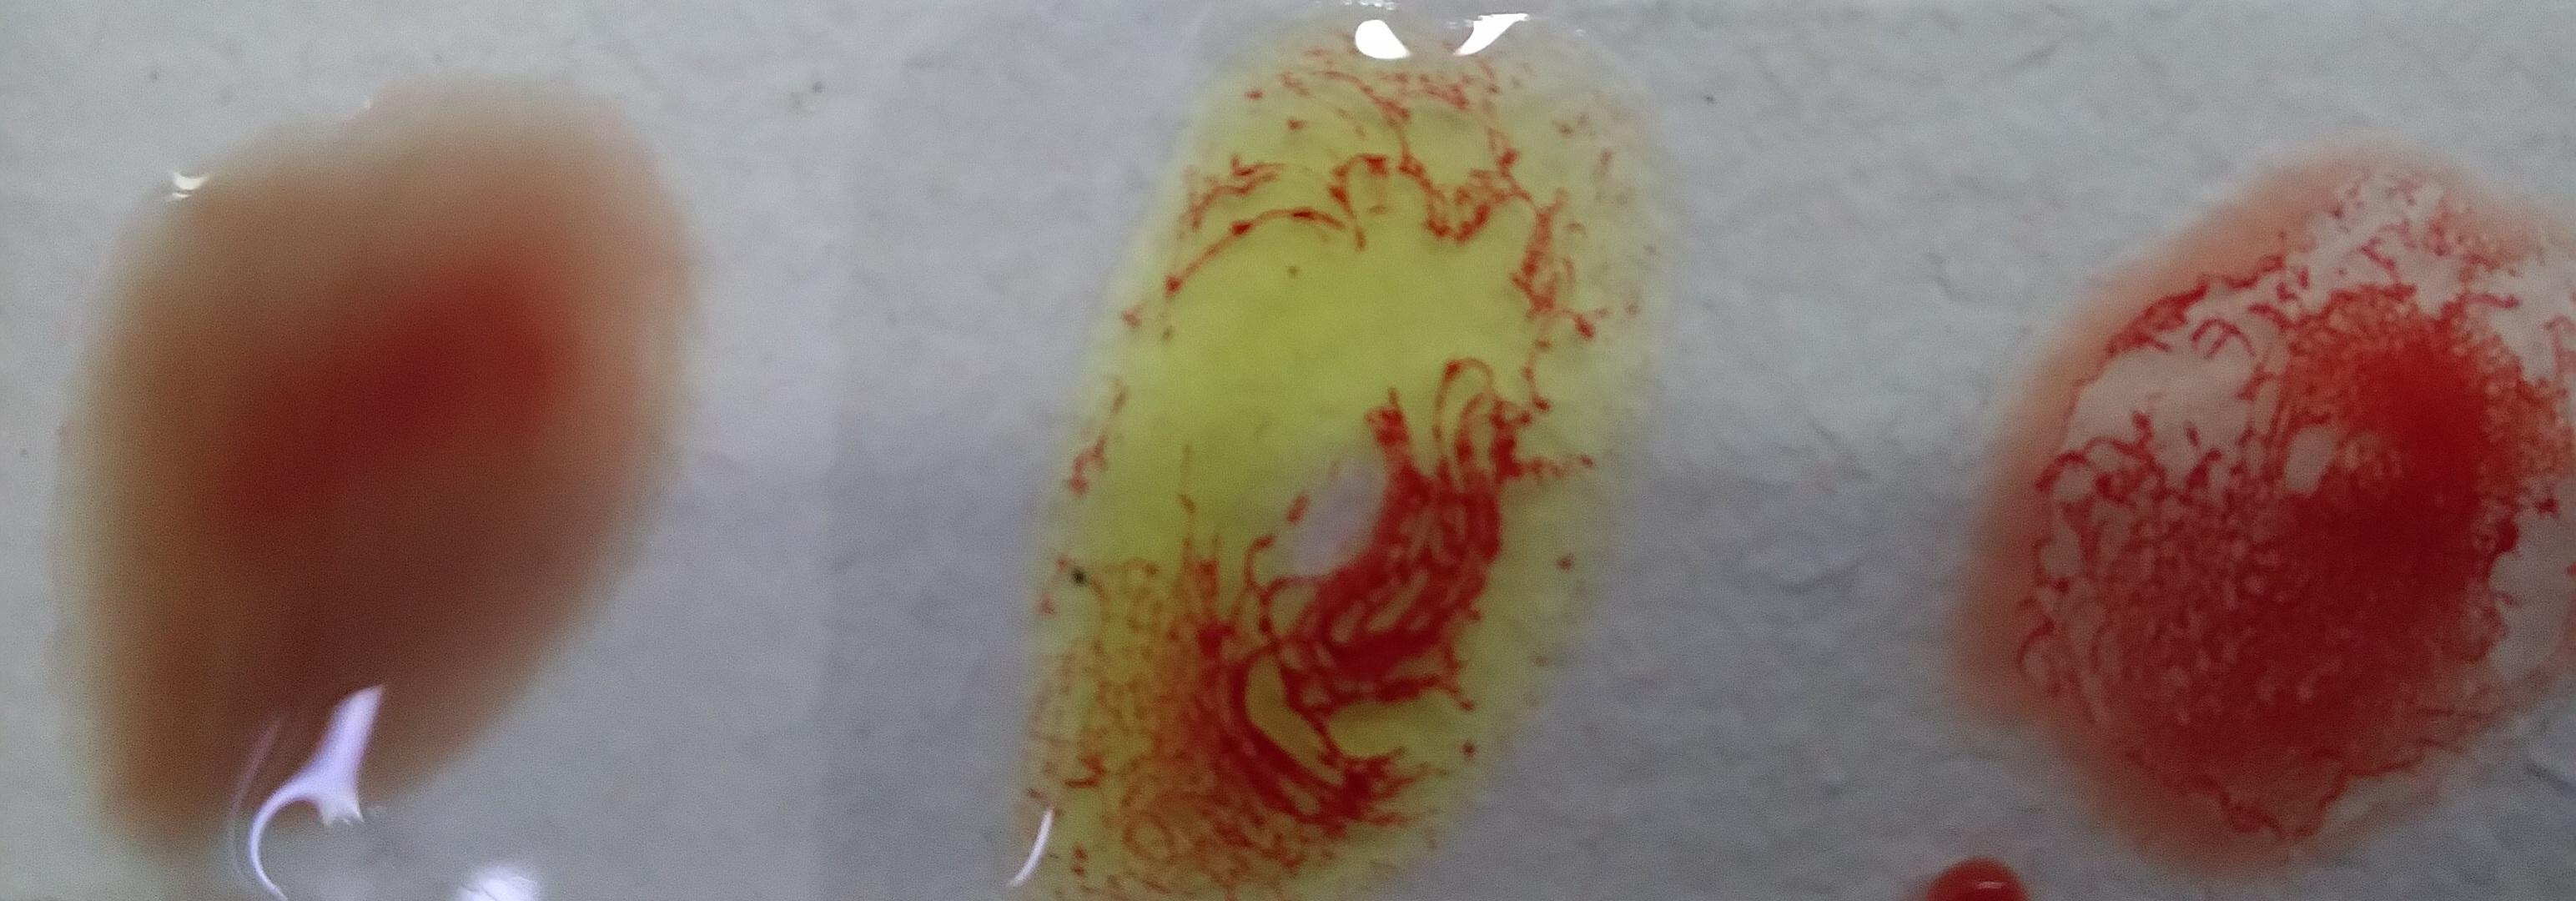B: (977, 15, 1529, 834)
D: (7, 43, 542, 735)
